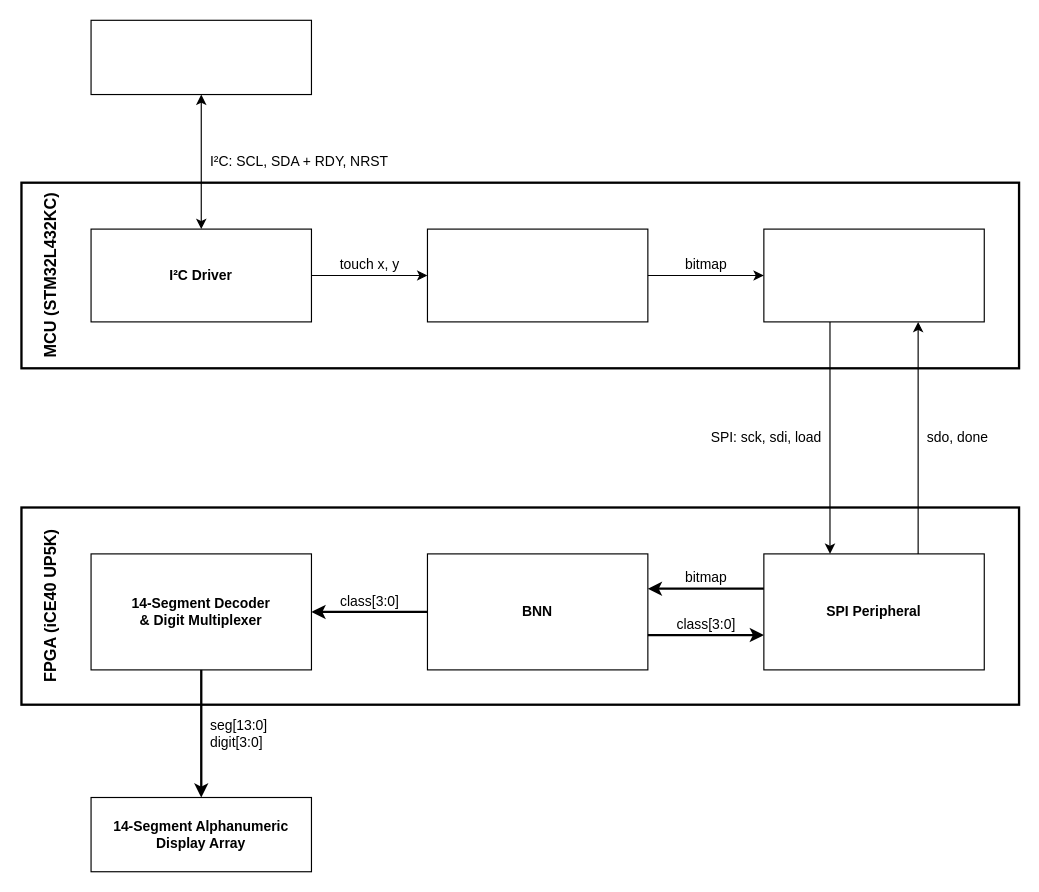
The diagram is 1039 pixels wide and 892 high, and some of its shapes have lost their labels. Each missing label, with the centre of its shape:
"Azoteq TPS65-201A-S touchpad (IQS550)" goes at point 200,57.
"SPI Controller" goes at point 873,275.
"Stroke Capture" goes at point 537,275.
